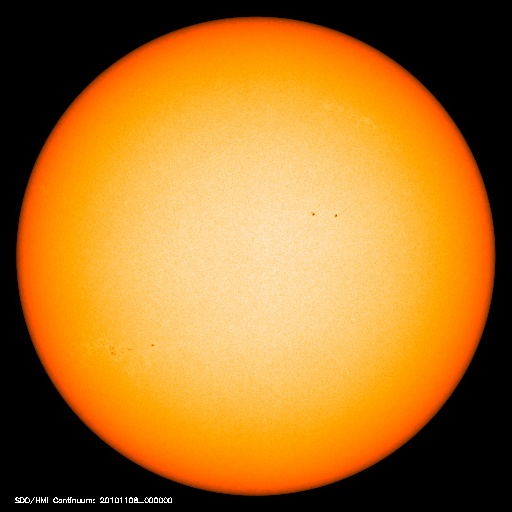sunspot: (95, 335, 165, 363), (301, 203, 346, 226)
